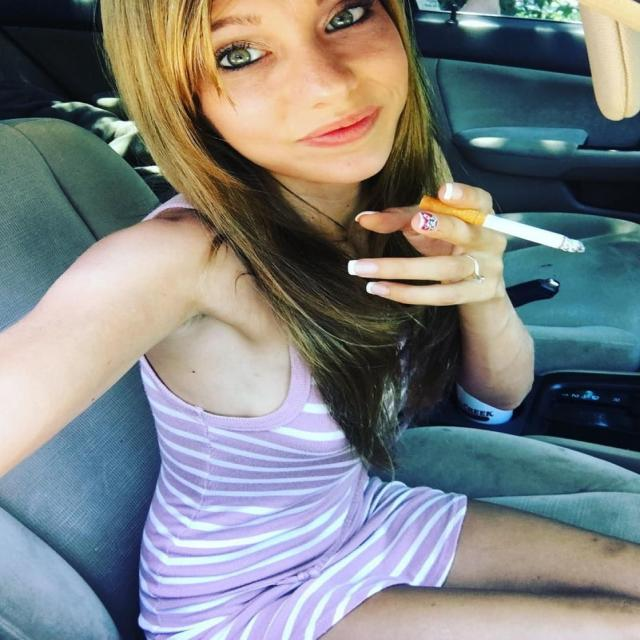smoke: (410, 184, 595, 262)
